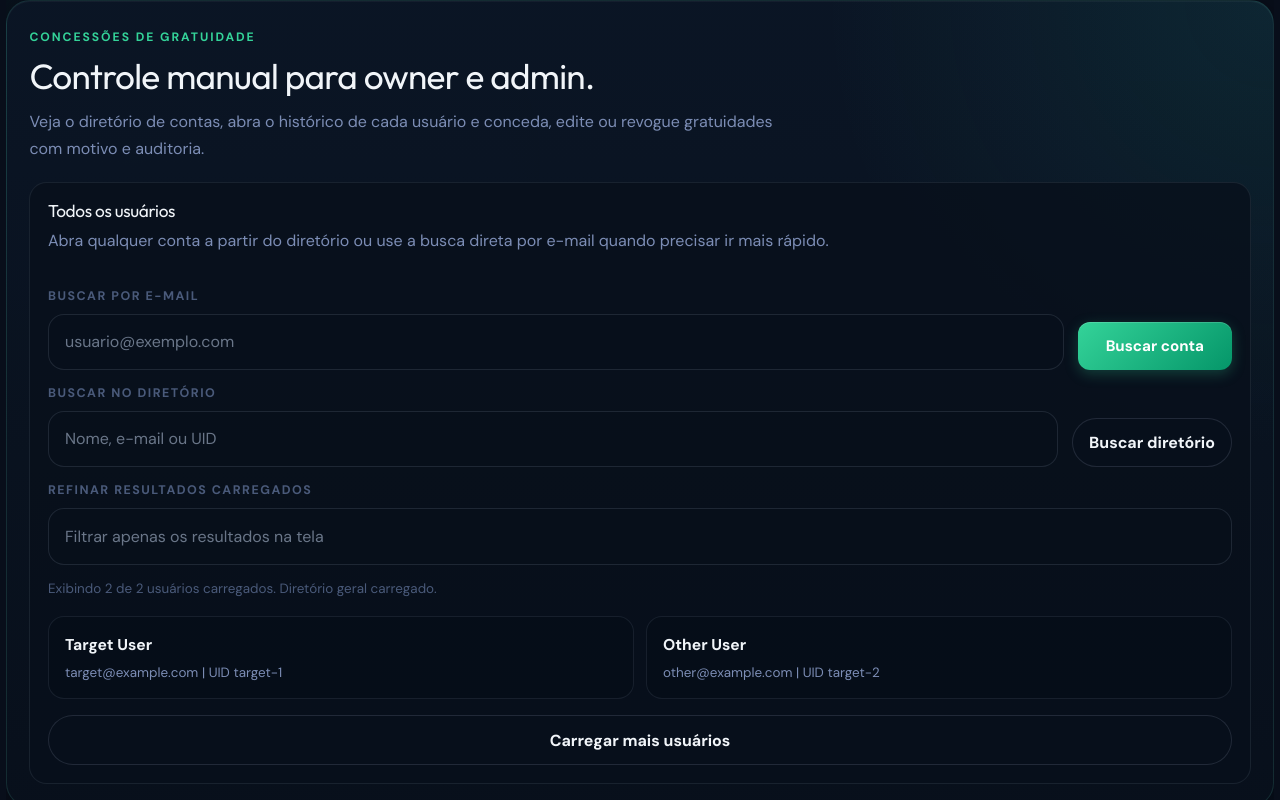
Test: BillingManualGrantsConsole › searches the full directory remotely when requested
expect the text "Target User" is shown: met, box left=65, top=634, right=152, bottom=655
Type "other" into the search field labelled "Buscar no diretório" at coordinates (553, 439), box left=48, top=411, right=1058, bottom=468
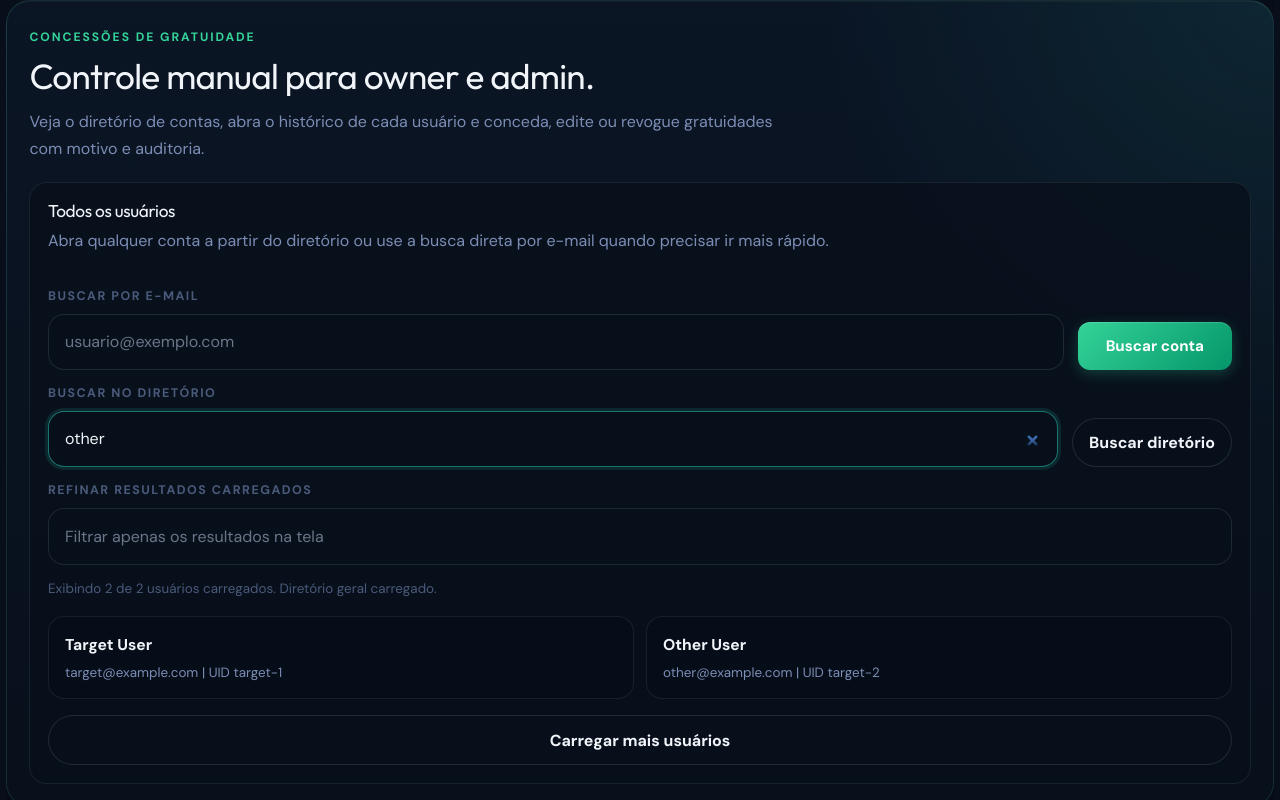
Click the button "Buscar diretório" at coordinates (1152, 442), box left=1072, top=418, right=1232, bottom=468
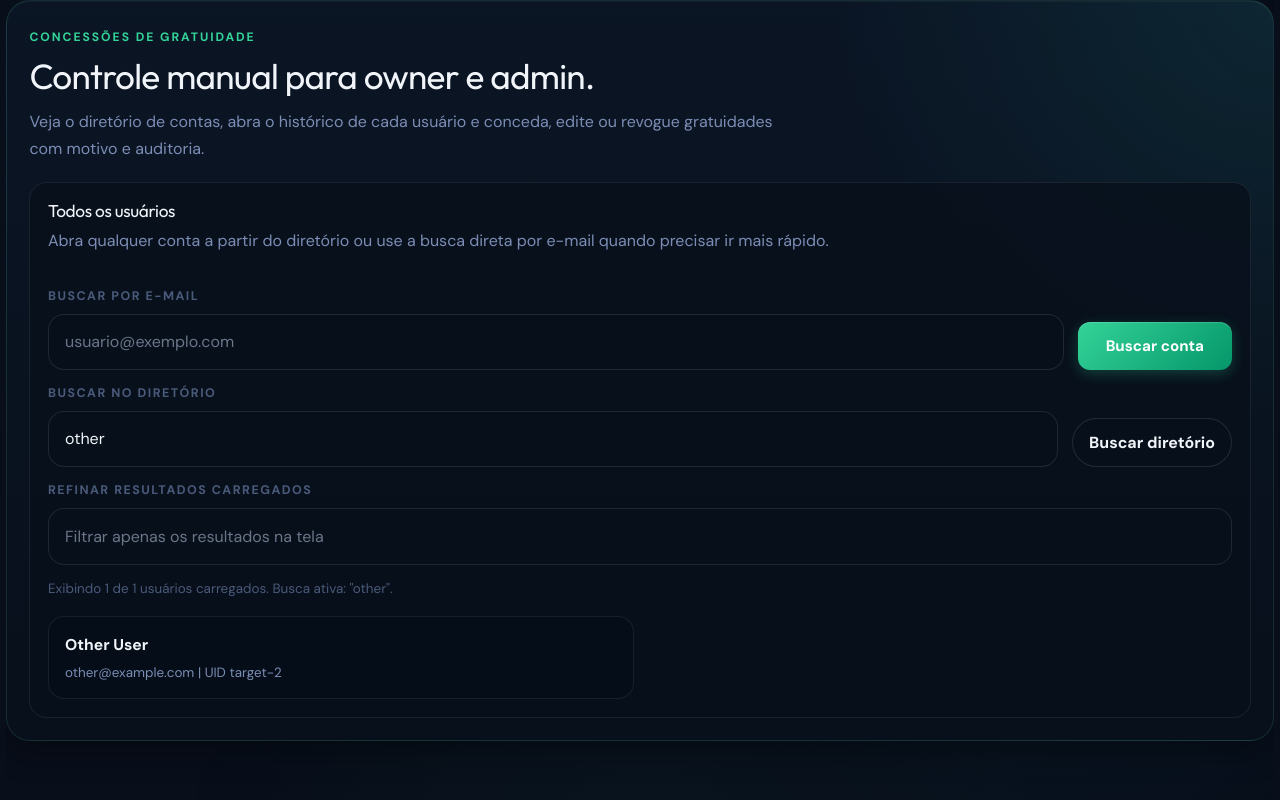
expect the text "Other User" is shown: met, box left=65, top=634, right=148, bottom=655
expect the button "Target User" is gone: met
expect the text "Exibindo 1 de 1 usuários carregados. Busca ativa: \"other\"." is shown: met, box left=48, top=580, right=393, bottom=597
